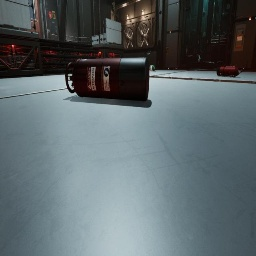0: (149, 65, 155, 71)
EmergencyPhone ,: (52, 8, 56, 19), (165, 45, 169, 54), (54, 12, 55, 14), (167, 48, 168, 50)
FireAlarm ,: (49, 11, 52, 18)
FireExtinguisher ]: (217, 66, 246, 77), (69, 41, 77, 43)
NitrogenTank ,: (65, 57, 149, 102), (0, 25, 2, 27), (29, 31, 29, 32)
SafetySwitchPanel ,: (234, 24, 246, 51)
